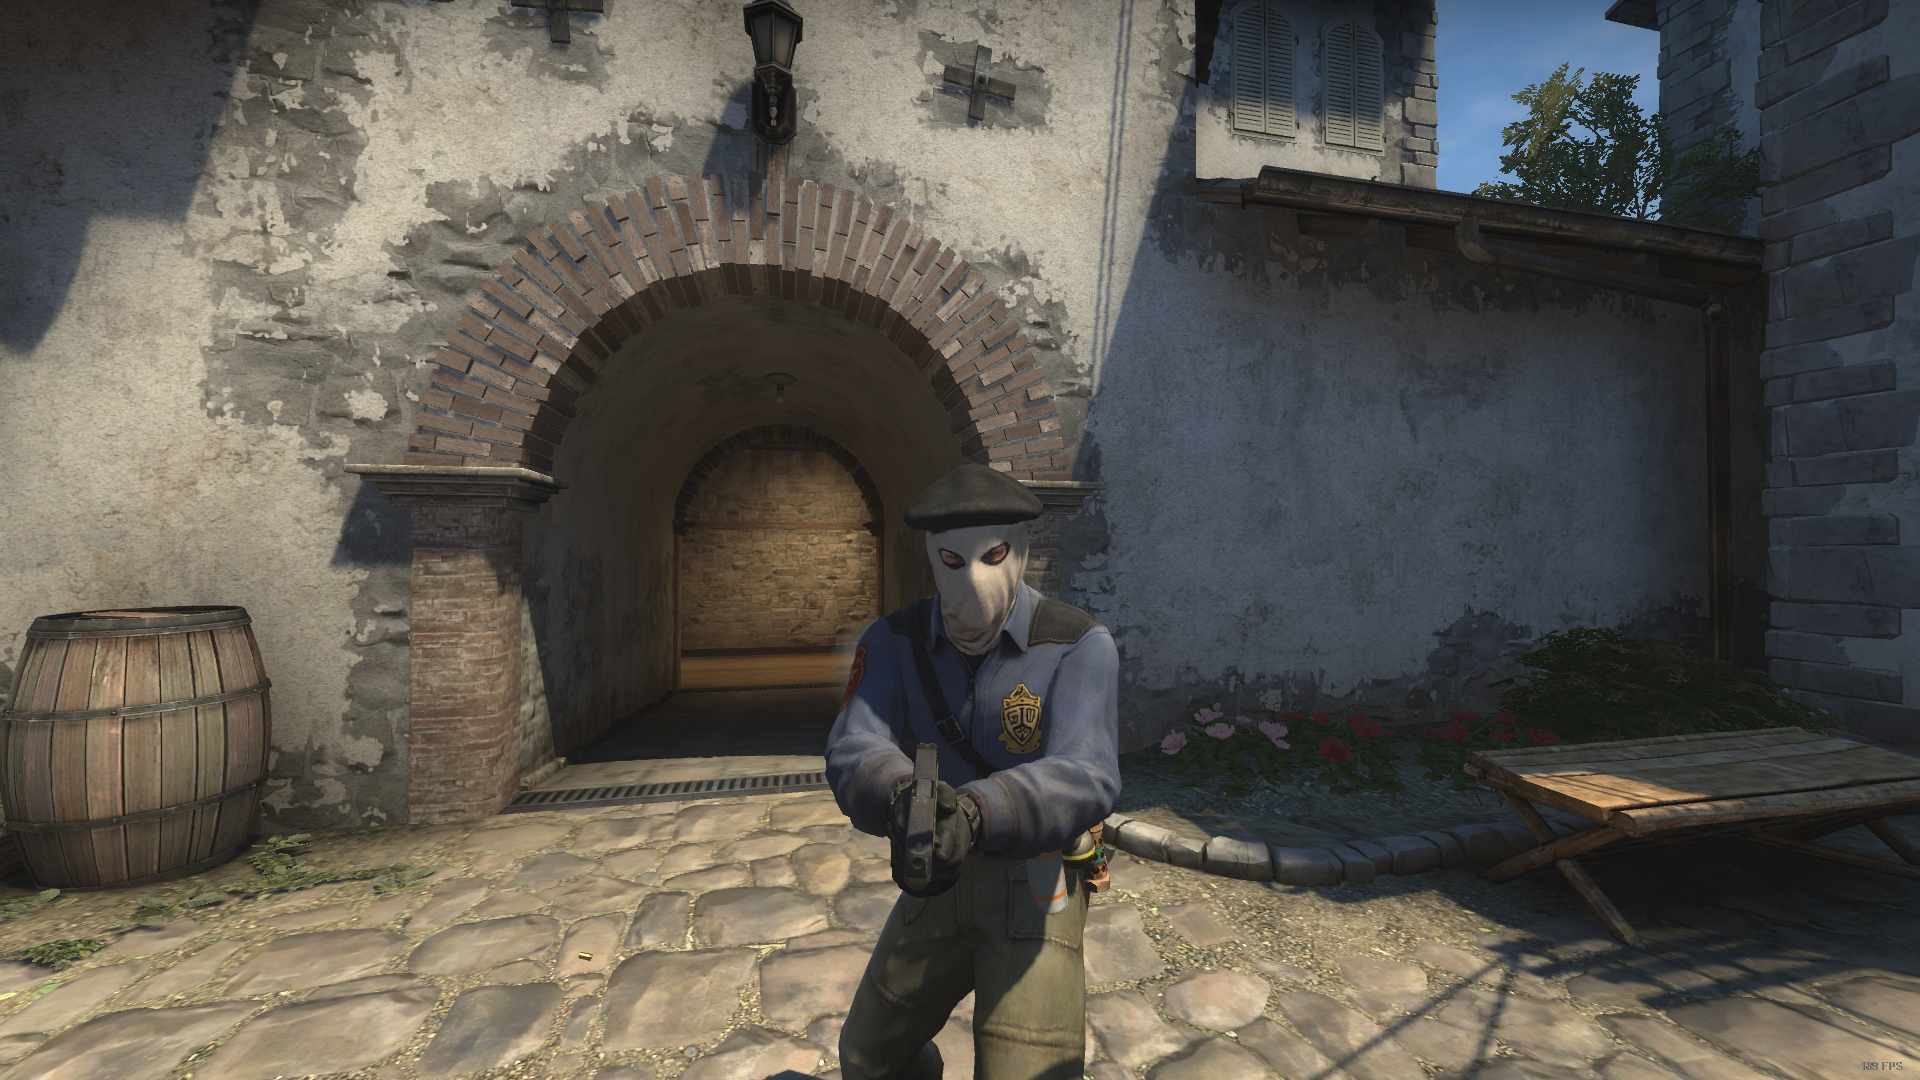t: (825, 460, 1124, 1080)
